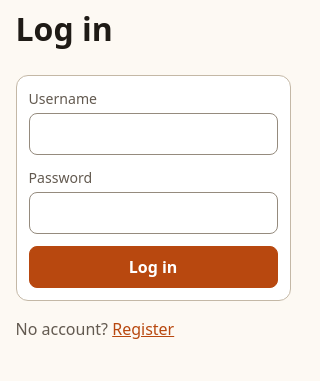
Test case: the error is announced, not just painted red
The width and height of the screenshot is (320, 381).
In the field labelled "Username": (153, 134) [28,113,278,155], type "alice"
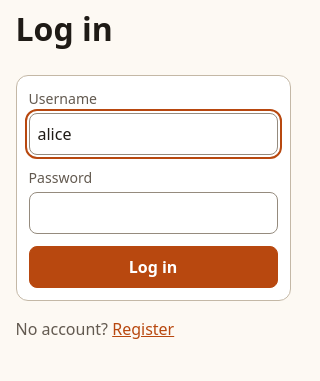
In the password field labelled "Password": (153, 213) [28,192,278,234], type "wrongpass1"
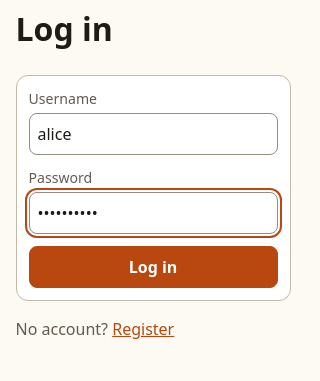
Click the button "Log in": (153, 267) [28,246,278,288]
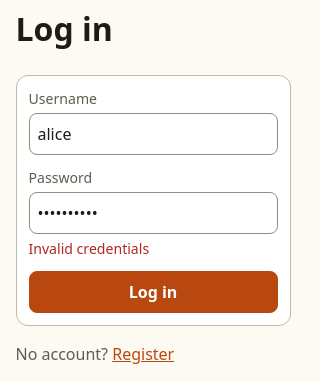
Now the message reads "Invalid credentials", box [28,239,149,258]
